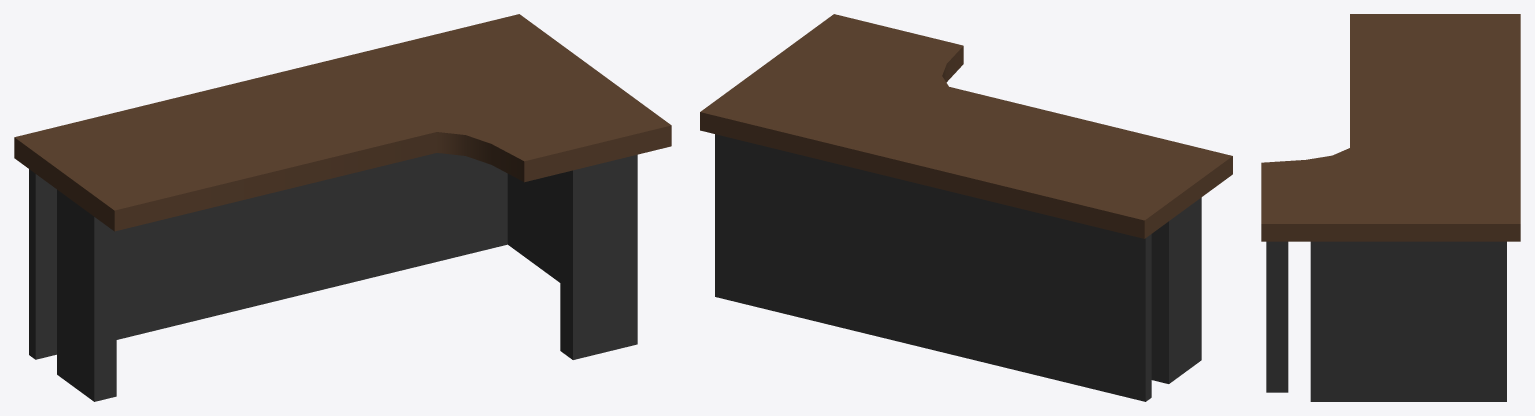
The model's file is desk(office.FBX.
3 renders of one model, left to right at view 1: azimuth 30°, elevation 25°; view 2: azimuth 150°, elevation 25°; view 3: azimuth 270°, elevation 25°, orthographic. The views are drawn at different scales.
Visible parts, largest first — view 1: Box001; view 2: Box001; view 3: Box001.
Boxes of the visible parts, x1,y1,x2,y2 form: Box001: (14, 14, 671, 401); Box001: (700, 14, 1232, 401); Box001: (1261, 14, 1520, 401).
Bounding box in the file's own units: 184 × 74.16 × 95.79.
